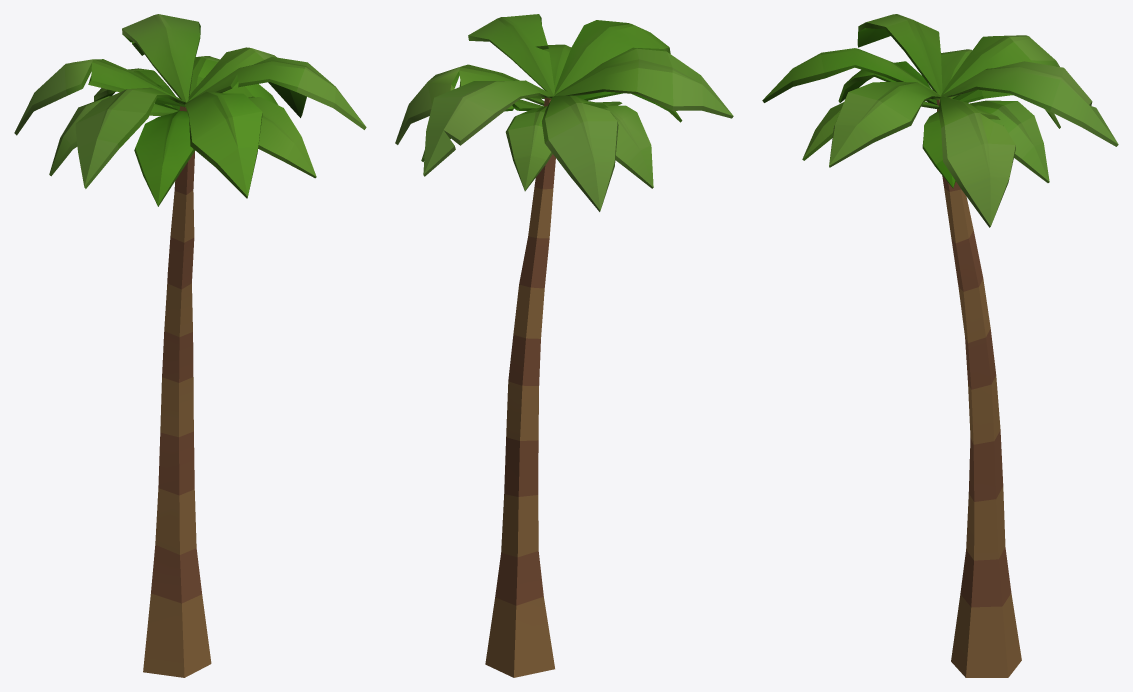
Rendered from Anim_PalmTree_Colour.fbx.
3 renders of one model, left to right at view 1: azimuth 30°, elevation 25°; view 2: azimuth 150°, elevation 25°; view 3: azimuth 270°, elevation 25°, orthographic. The views are drawn at different scales.
Visible parts, largest first — view 1: Anim_PalmTree_Colour; view 2: Anim_PalmTree_Colour; view 3: Anim_PalmTree_Colour.
Boxes of the visible parts, box(x1,y1,x2,y2) form: Anim_PalmTree_Colour: box(14, 14, 366, 677); Anim_PalmTree_Colour: box(395, 14, 733, 677); Anim_PalmTree_Colour: box(762, 14, 1118, 677).
Bounding box in the file's own units: 6.53 × 13.57 × 7.24.
